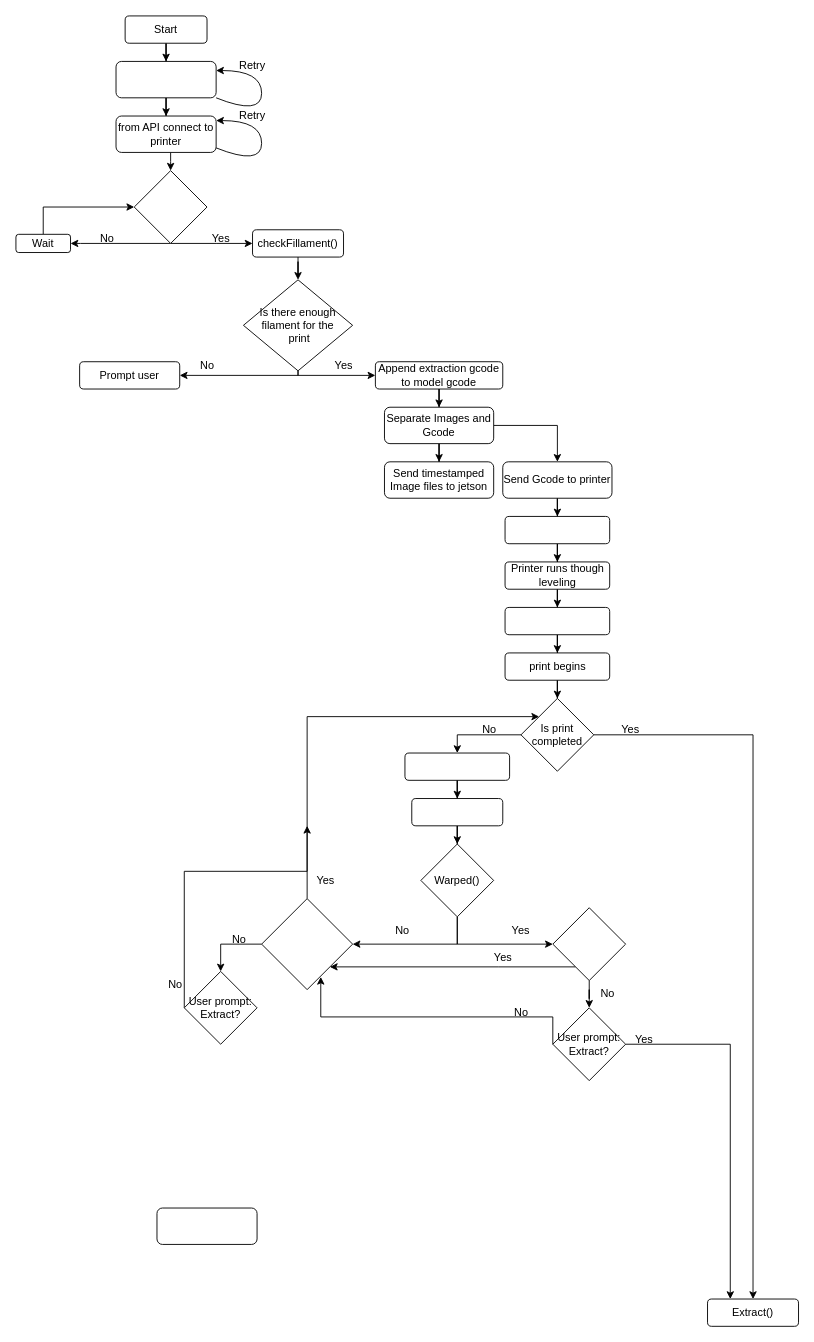
This 814x1342 diagram has some shape labels left out. The shapes that lost their labels are listed below. From the top down, each one's centre as x and y in pixels, then its label:
At (x=165, y=79): "from slicer connect to API".
At (x=170, y=206): "Has a file been sent?".
At (x=557, y=530): "Begin print".
At (x=557, y=621): "printer done leveling".
At (x=457, y=766): "wait till designated time".
At (x=457, y=812): "take images".
At (x=307, y=944): "comparison() less than %error".
At (x=589, y=944): "Less than error%".
